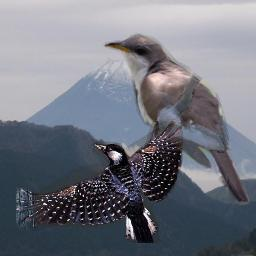Cuckoo: (101, 31, 249, 208)
Woodpecker: (16, 121, 183, 243)
